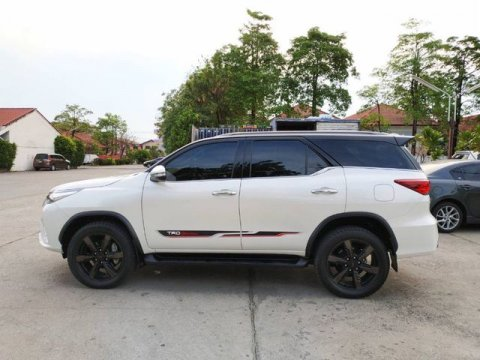pickup: (37, 130, 439, 300)
